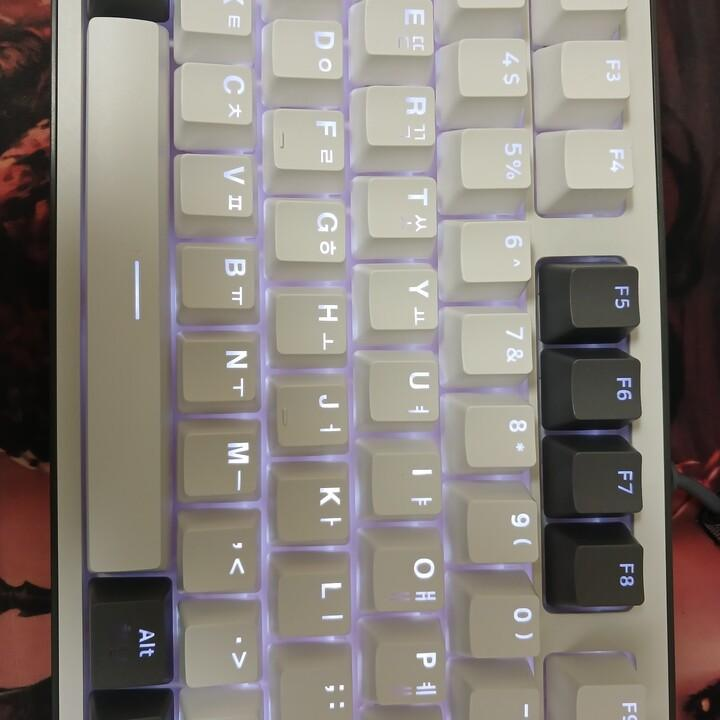keyboard: (52, 0, 674, 719)
